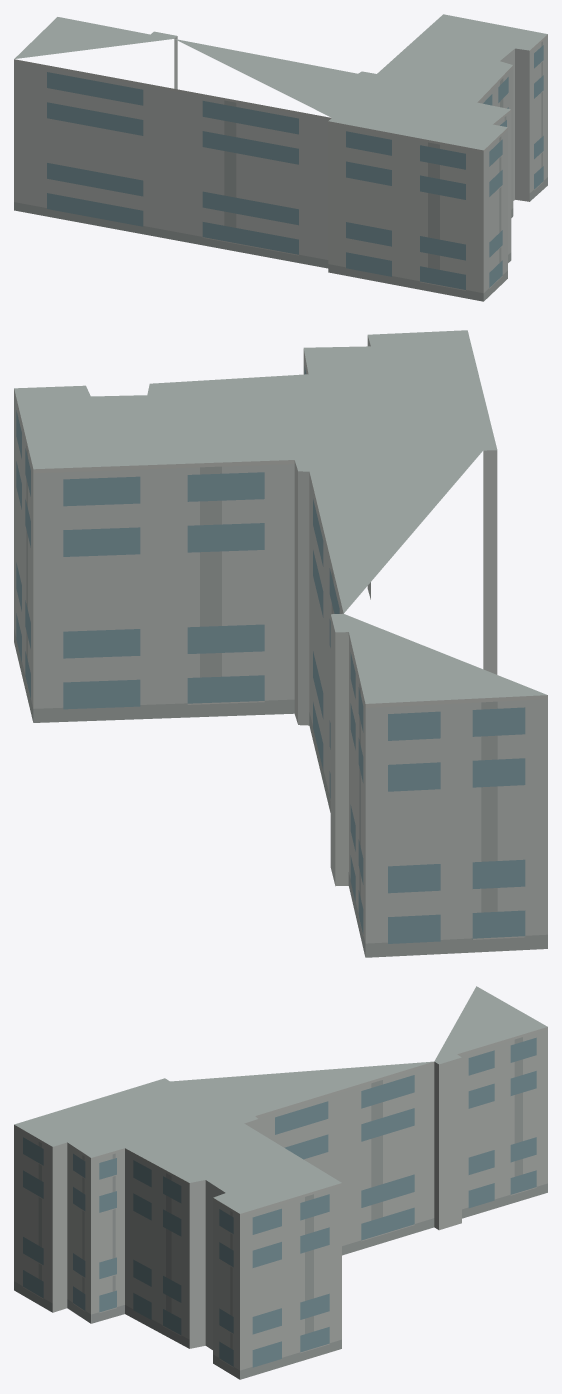
Rendered from residential-43acc704-ce83-4586-82b3-468174688e87.glb.
The picture shows the model from 3 angles, top to bottom: view 1: azimuth 30°, elevation 25°; view 2: azimuth 150°, elevation 25°; view 3: azimuth 270°, elevation 25°; orthographic projection. The views are drawn at different scales.
Parts seen in each view (by area): view 1: residential-43acc704-ce83-4586-82b3-468174688e87.tmp; view 2: residential-43acc704-ce83-4586-82b3-468174688e87.tmp; view 3: residential-43acc704-ce83-4586-82b3-468174688e87.tmp.
Boxes of the visible parts, x1,y1,x2,y2 form: residential-43acc704-ce83-4586-82b3-468174688e87.tmp: [14, 14, 547, 301]; residential-43acc704-ce83-4586-82b3-468174688e87.tmp: [14, 330, 547, 957]; residential-43acc704-ce83-4586-82b3-468174688e87.tmp: [14, 986, 547, 1379].
Size of the model in its own units: 44.95 by 15.25 by 44.5.
